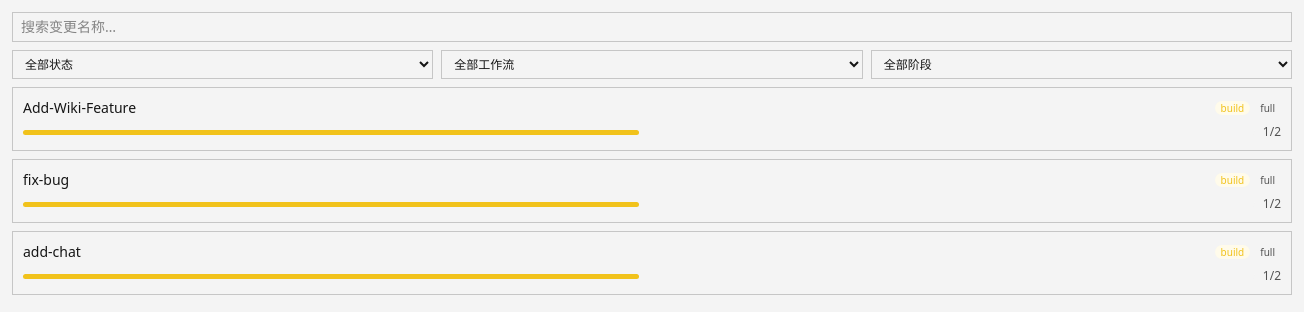
Test case: ChangeExplorer › narrows the list to a case-insensitive substring match on name via the search input
Type "add" into the field with placeholder "搜索变更名称…" at (652,27), box [12,12,1292,42]
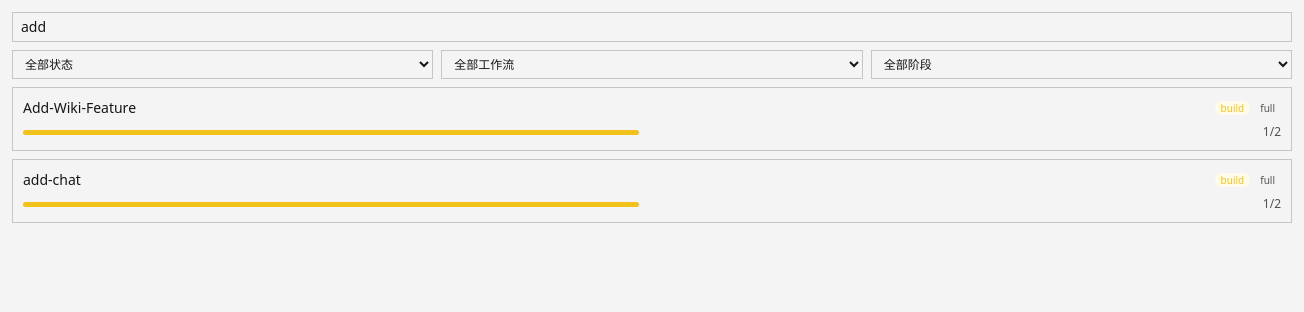
Expected: the text "Add-Wiki-Feature" is shown, [23,98,136,118]
Result: the text "fix-bug" is gone
